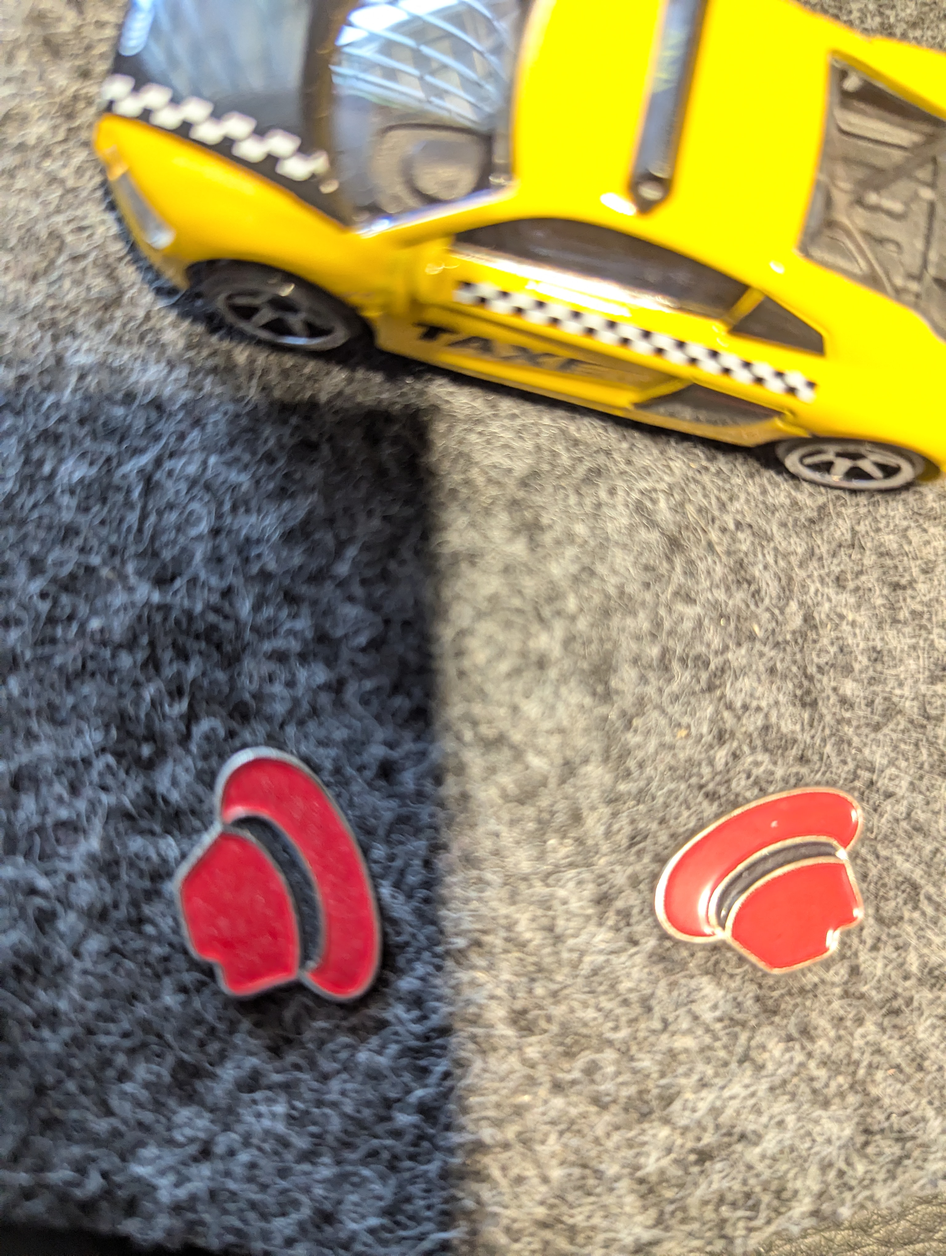Car: (80, 0, 946, 501)
Red-Hat: (149, 704, 428, 1041), (633, 730, 922, 1025)
